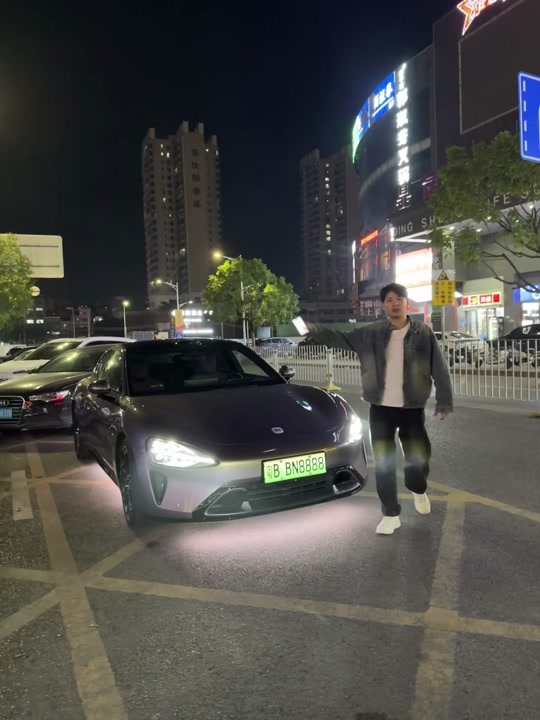other: (4, 351, 114, 431)
su7: (75, 336, 368, 534)
